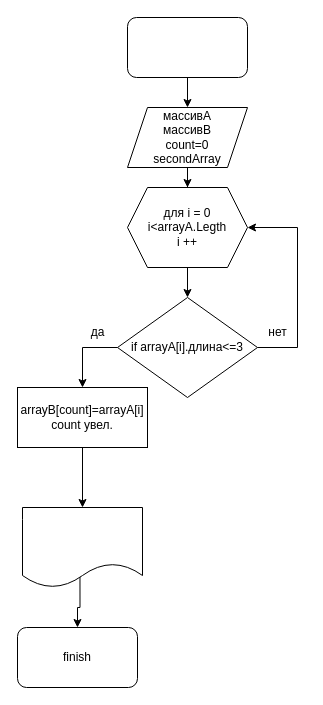
The diagram is 323 pixels wide and 705 high, and some of its shapes have lost their labels. The shapes that lost their labels are listed below. From the top down, each one's box as (x1, y1, x2, y2) in pixels, then its label:
(126, 16, 248, 78): start
(22, 506, 142, 588): аrrayB
